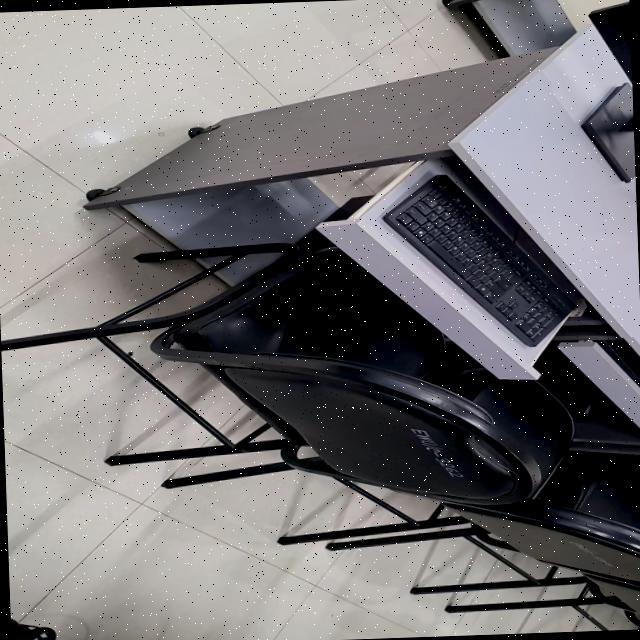Chair: (150, 246, 536, 504), (280, 366, 640, 582), (573, 452, 640, 528), (592, 577, 640, 615)
Keyboard: (382, 174, 574, 345)
Monitor: (590, 0, 632, 81)
